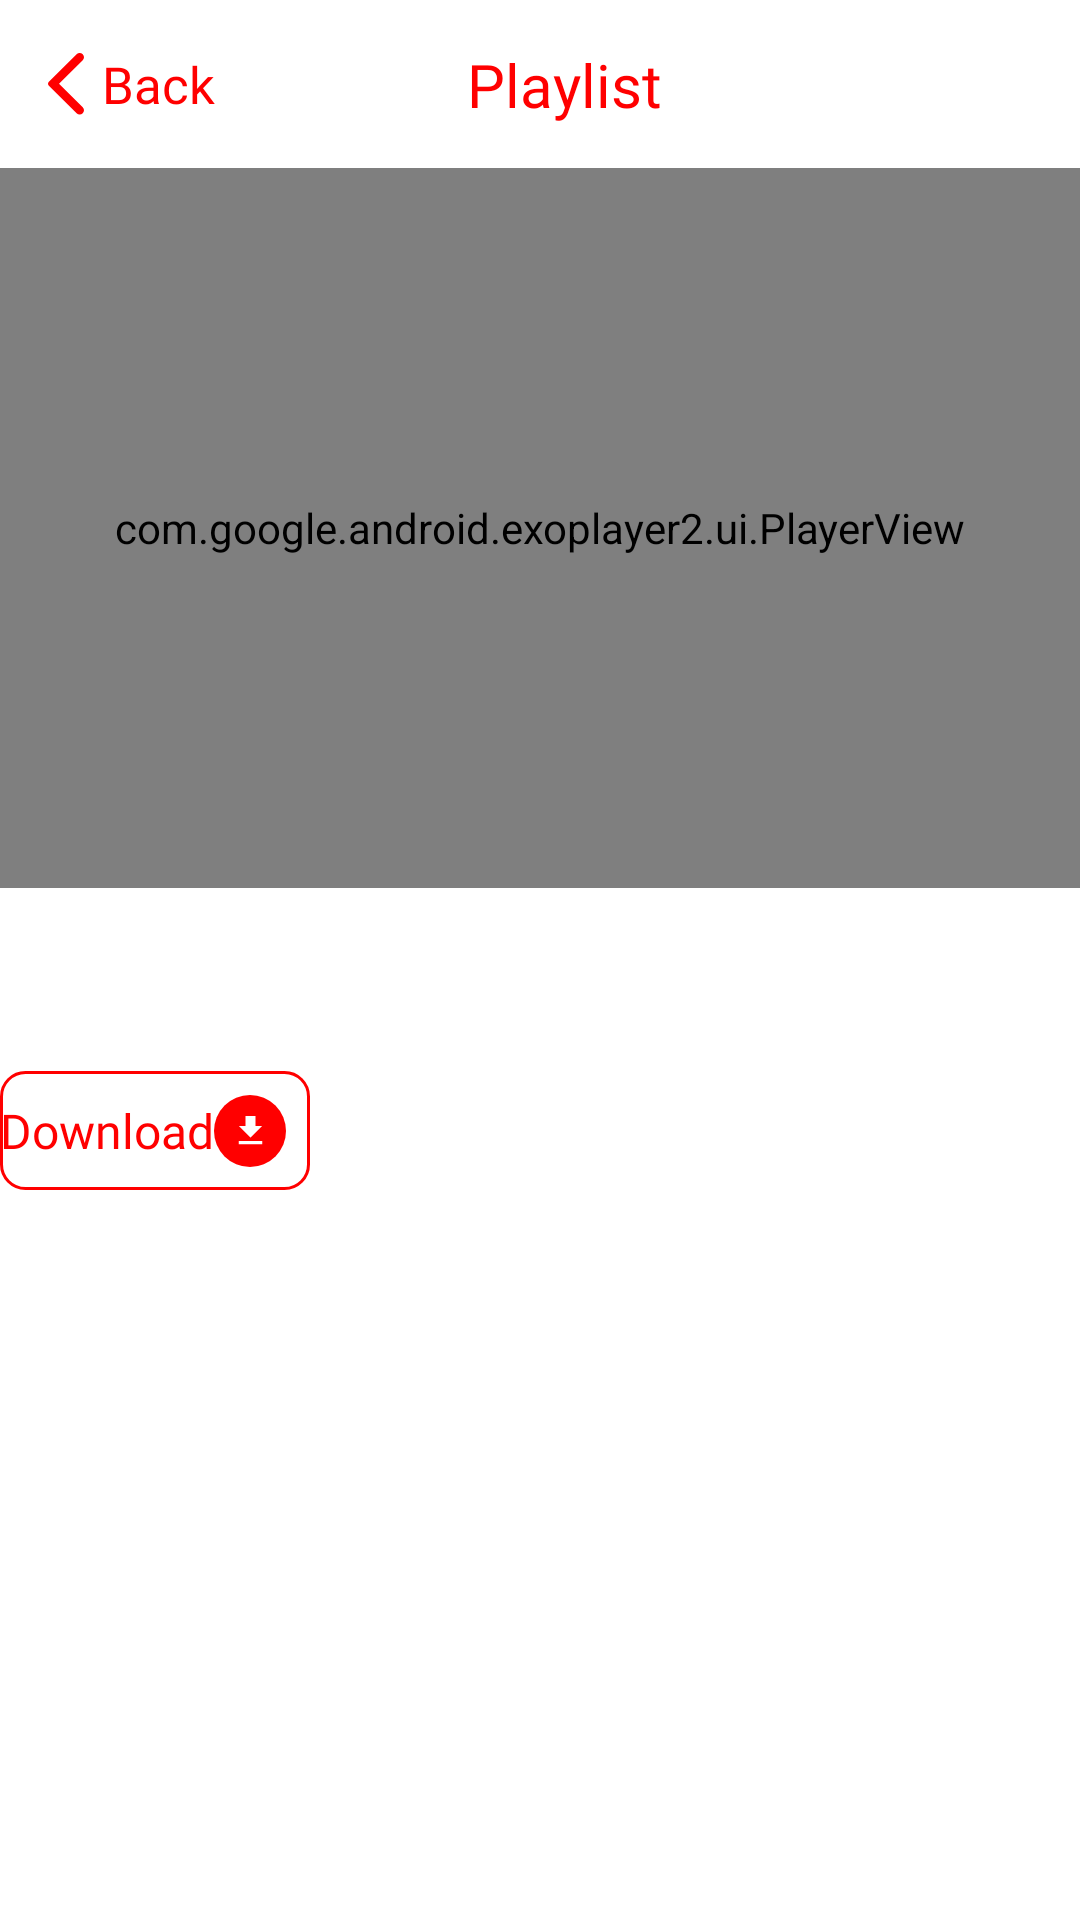

Icon bounding boxes for this 1080px x 1920px phone screenshot, format (x1, y1, x2, y2):
arrow: (48, 53, 84, 115)
